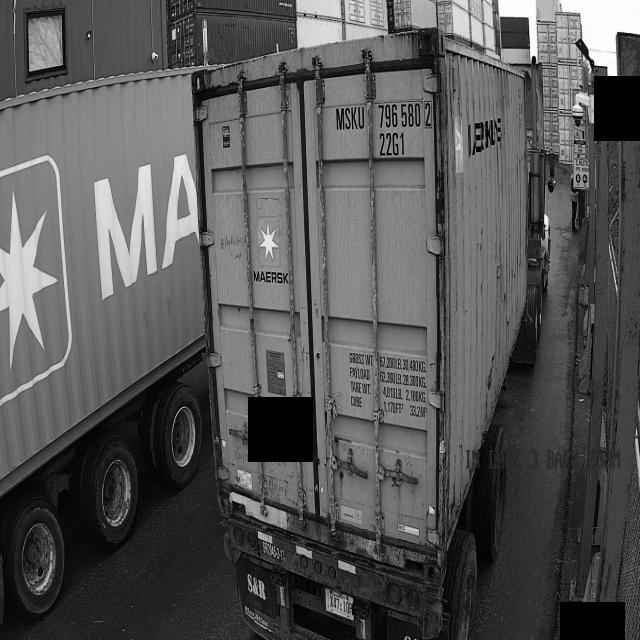container_company_logo: (252, 216, 287, 292)
container_number: (334, 103, 434, 161)
driver: (569, 175, 581, 232)
license_plate: (321, 590, 358, 621)
other_container_info: (346, 345, 427, 422)
truck_with_container: (194, 28, 555, 640), (0, 70, 205, 621)
